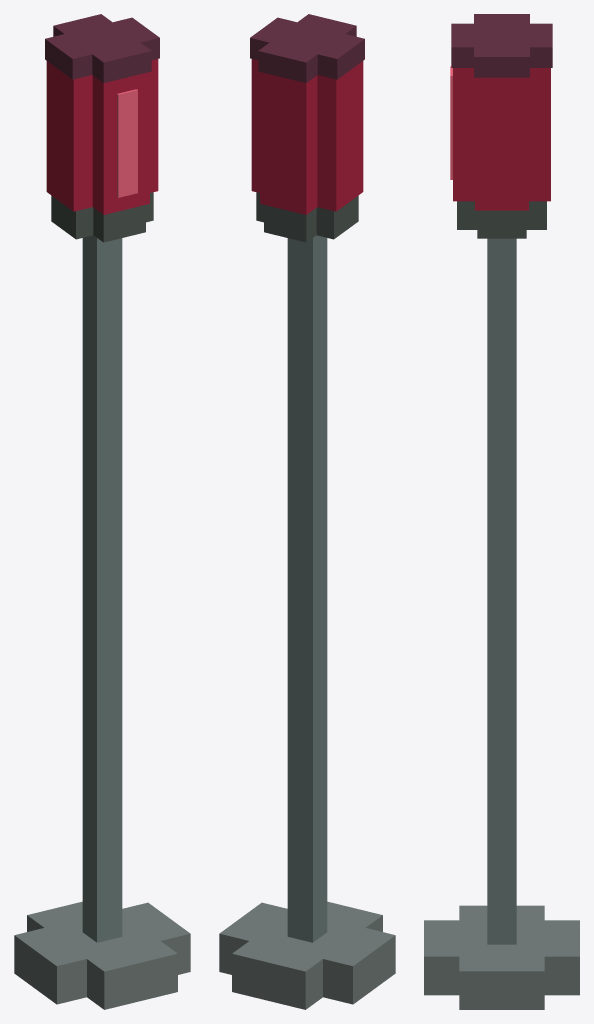
Rendered from CMU3DRedBeaconPost.glb.
3 views of the same model, side by side, from view 1: azimuth 30°, elevation 25°; view 2: azimuth 150°, elevation 25°; view 3: azimuth 270°, elevation 25° (orthographic).
Visible parts, largest first — view 1: beacon post, beacon foot (×3), red beacon lens (×3), beacon cap (×3), beacon lamp collar (×2), red lens core; view 2: beacon post, red beacon lens (×3), beacon foot (×3), beacon cap (×3), beacon lamp collar (×2); view 3: beacon post, beacon foot (×3), red beacon lens (×2), beacon cap (×3), beacon lamp collar (×2).
Boxes of the visible parts, <box> form: beacon post: <box>82,235,122,942</box>; beacon foot (×3): <box>14,901,190,1009</box>; red beacon lens (×3): <box>46,59,158,214</box>; beacon cap (×3): <box>45,14,159,82</box>; beacon lamp collar (×2): <box>51,195,145,242</box>; red lens core: <box>117,89,137,197</box>; beacon post: <box>287,235,327,942</box>; red beacon lens (×3): <box>251,59,363,214</box>; beacon foot (×3): <box>219,901,395,1009</box>; beacon cap (×3): <box>250,14,364,82</box>; beacon lamp collar (×2): <box>264,195,358,242</box>; beacon post: <box>487,238,516,944</box>; beacon foot (×3): <box>424,905,579,1009</box>; red beacon lens (×2): <box>453,68,550,210</box>; beacon cap (×3): <box>451,14,552,77</box>; beacon lamp collar (×2): <box>457,201,546,238</box>.
Size of the model in its own units: 0.19 by 1.27 by 0.19.
